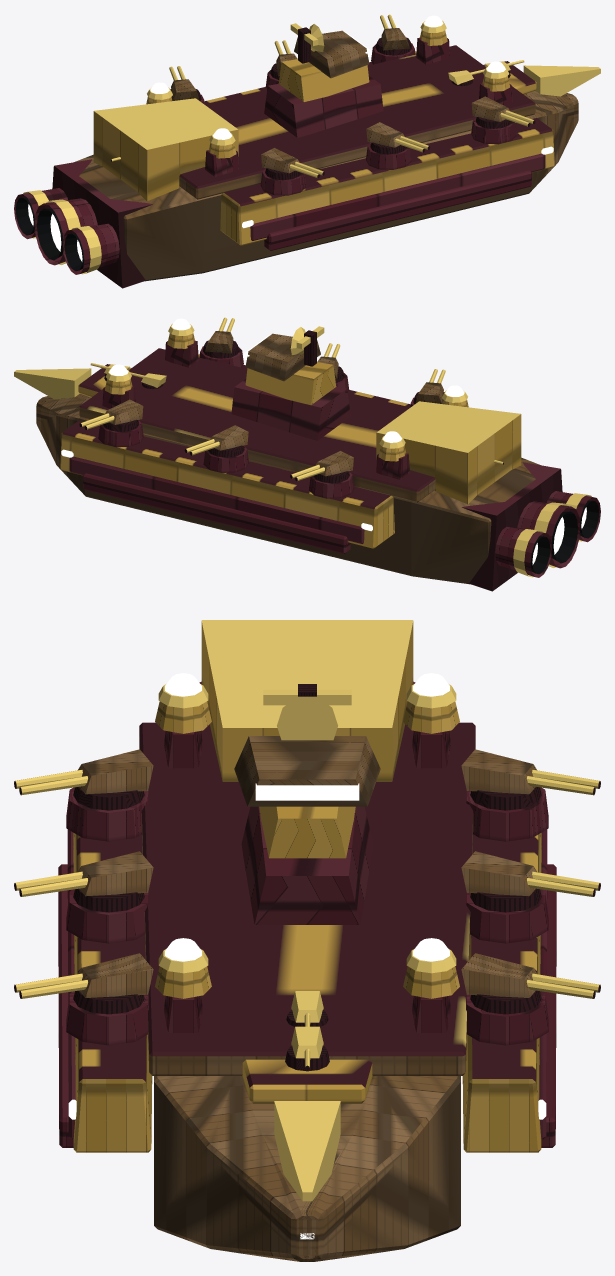
Rendered from cruiser.glb.
3 views of the same model, one above another, from view 1: azimuth 30°, elevation 25°; view 2: azimuth 150°, elevation 25°; view 3: azimuth 270°, elevation 25° (orthographic). The views are drawn at different scales.
Parts seen in each view (by area): view 1: hull_body, engine_block, sensor_tower, weapon_turrets, shield_pylons; view 2: hull_body, engine_block, sensor_tower, weapon_turrets, shield_pylons; view 3: hull_body, weapon_turrets, sensor_tower, shield_pylons.
Part boxes in pixels (x1,y1,x2,y2): hull_body: (74, 45, 600, 281); engine_block: (14, 159, 152, 288); sensor_tower: (264, 23, 383, 137); weapon_turrets: (111, 14, 535, 195); shield_pylons: (146, 15, 512, 176); hull_body: (14, 348, 540, 584); engine_block: (462, 462, 600, 591); sensor_tower: (231, 326, 350, 440); weapon_turrets: (79, 317, 503, 498); shield_pylons: (102, 318, 468, 479); hull_body: (58, 620, 556, 1261); weapon_turrets: (14, 749, 600, 1071); sensor_tower: (234, 684, 380, 924); shield_pylons: (155, 673, 459, 1032).
Size of the model in its own units: 42 by 13.65 by 19.55.
1 material, 1 textured.
